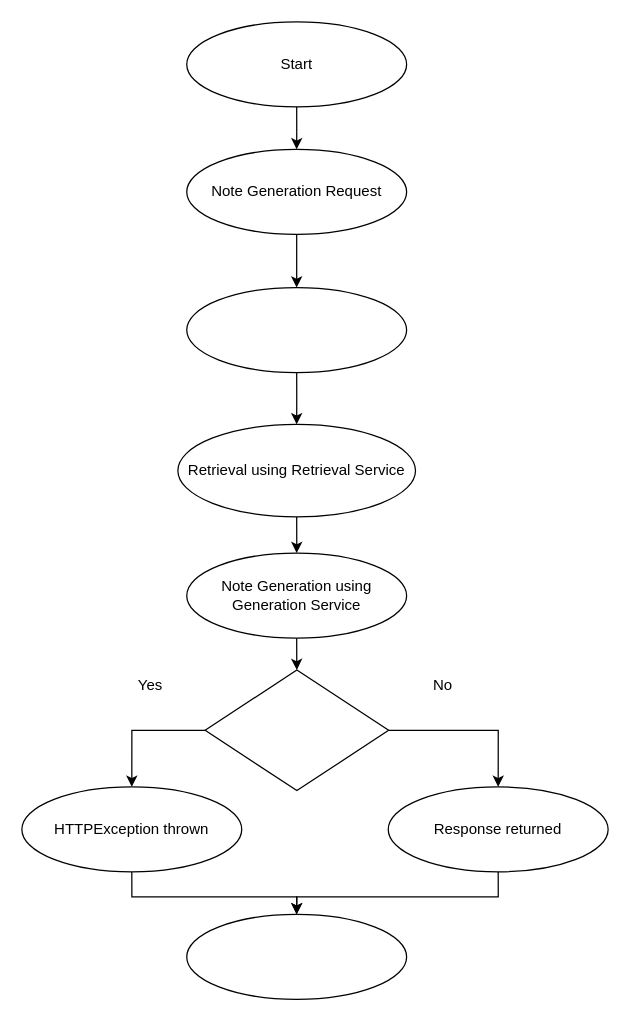
This 630x1021 diagram has some shape labels left out. The shapes that lost their labels are listed below. From the top down, each one's centre as x and y in pixels, then its label:
the point at 296,329: Retrieval Context prepared
the point at 296,730: Error Occurred?
the point at 296,956: Stop
